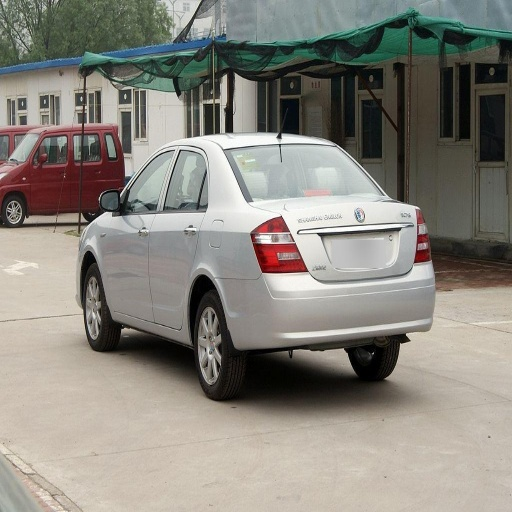back_bumper: (222, 265, 432, 348)
back_glass: (227, 146, 368, 199)
back_left_door: (150, 145, 208, 328)
